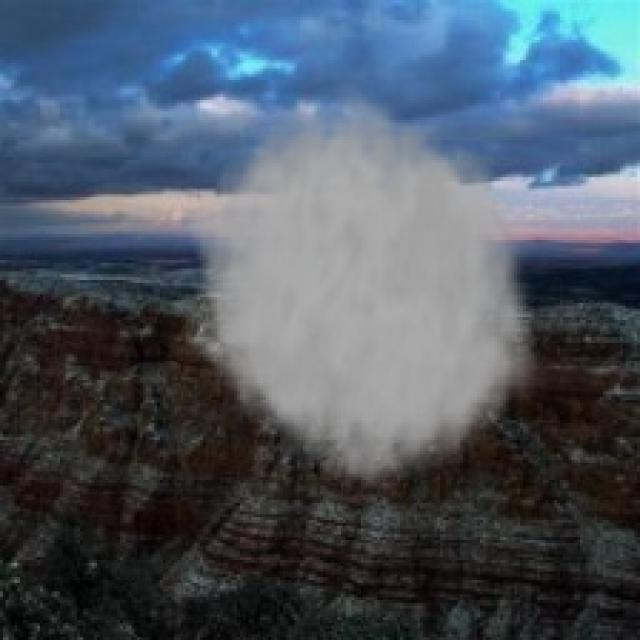Smoke: (186, 74, 552, 500)
